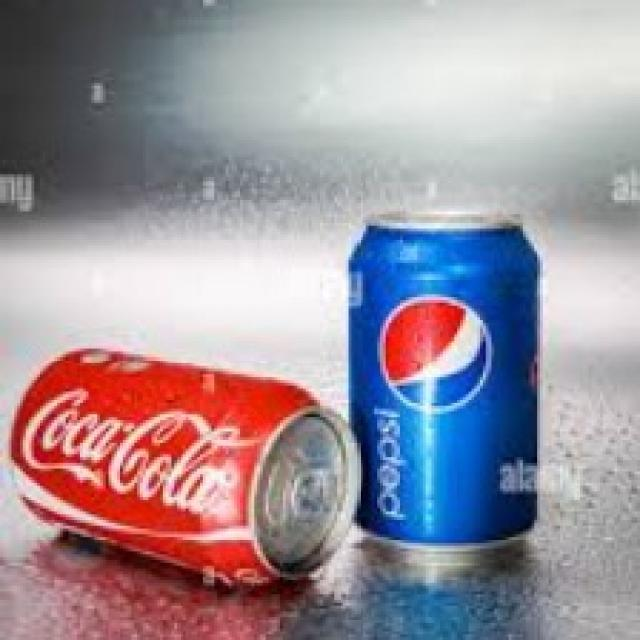metel: (11, 334, 344, 601), (339, 192, 553, 554)
